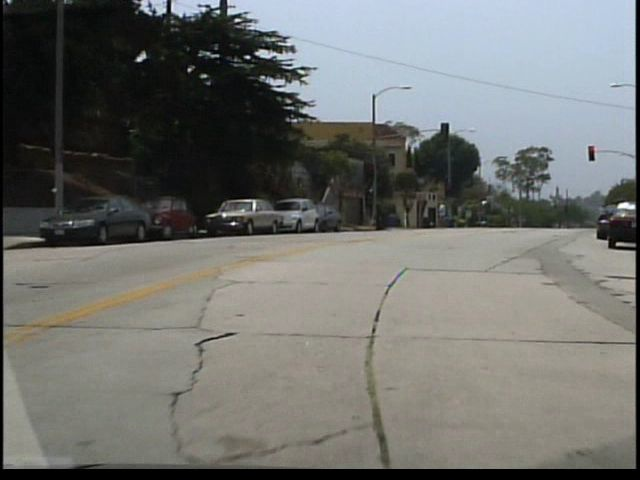person: (440, 202, 451, 230)
